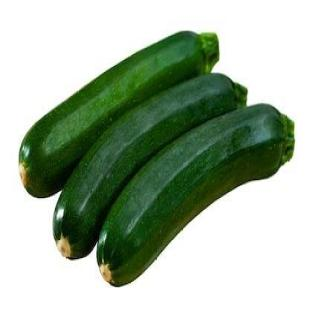Zucchini: (98, 105, 294, 285), (54, 74, 246, 257), (20, 32, 218, 196)
